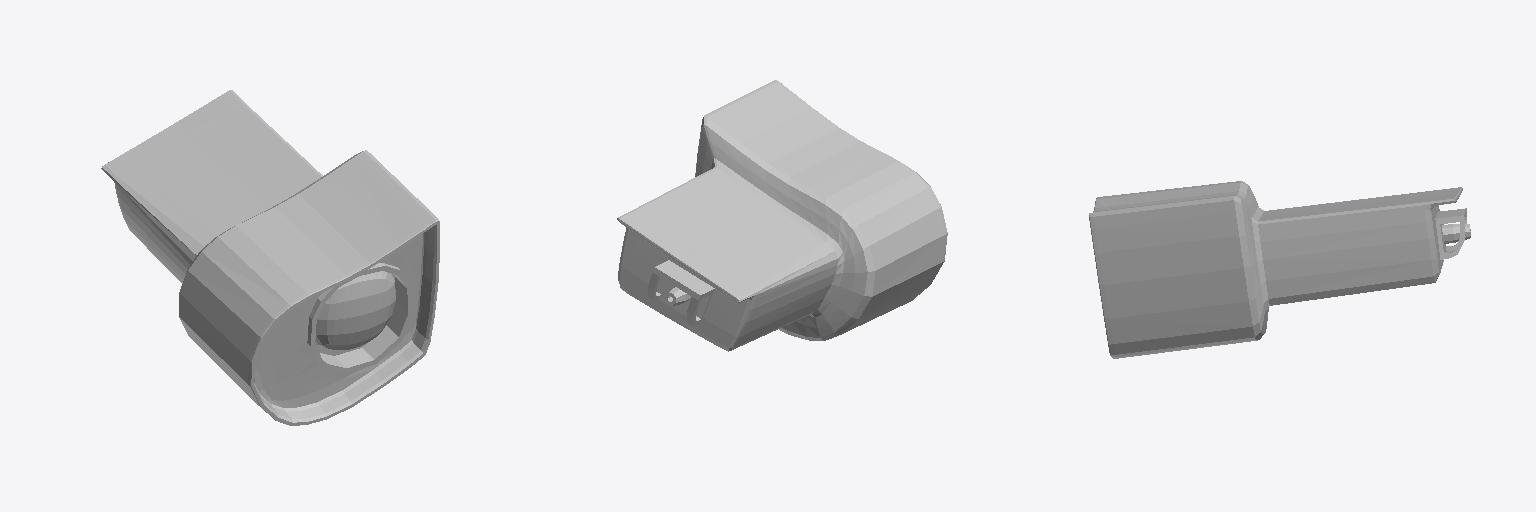
The model's file is eyeA.obj.
3 views of the same model, side by side, from view 1: azimuth 30°, elevation 25°; view 2: azimuth 150°, elevation 25°; view 3: azimuth 270°, elevation 25° (orthographic).
Visible parts, largest first — view 1: body:eyes_lowpolySurface291, body:eyes_lowpolySurface295, polySurface2 body:eyes_lowFBXASC046001, body:eyes_lowpolySurface303, body:eyes_lowpolySurface294, body:eyes_lowpolySurface302, body:eyes_lowpolySurface293; view 2: body:eyes_lowpolySurface291, body:eyes_lowpolySurface292, body:eyes_lowpolySurface311, body:eyes_lowpolySurface314, body:eyes_lowpolySurface313; view 3: body:eyes_lowpolySurface291, body:eyes_lowpolySurface309.
Boxes of the visible parts, <box> form: body:eyes_lowpolySurface291: <box>101,90,439,425</box>; body:eyes_lowpolySurface295: <box>255,226,433,418</box>; polySurface2 body:eyes_lowFBXASC046001: <box>315,271,395,350</box>; body:eyes_lowpolySurface303: <box>320,274,407,367</box>; body:eyes_lowpolySurface294: <box>251,221,439,425</box>; body:eyes_lowpolySurface302: <box>311,266,413,372</box>; body:eyes_lowpolySurface293: <box>254,225,436,422</box>; body:eyes_lowpolySurface291: <box>617,80,947,350</box>; body:eyes_lowpolySurface292: <box>618,227,751,351</box>; body:eyes_lowpolySurface311: <box>655,260,714,294</box>; body:eyes_lowpolySurface314: <box>648,268,700,324</box>; body:eyes_lowpolySurface313: <box>657,278,710,318</box>; body:eyes_lowpolySurface291: <box>1089,181,1461,358</box>; body:eyes_lowpolySurface309: <box>1435,215,1464,259</box>.
Bounding box in the file's own units: 97.94 × 103 × 176.